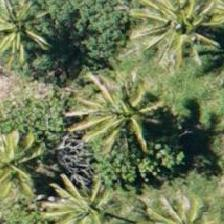coconut_tree: (69, 64, 159, 154), (165, 0, 223, 81), (117, 175, 207, 223), (12, 177, 102, 223), (0, 0, 61, 67)
